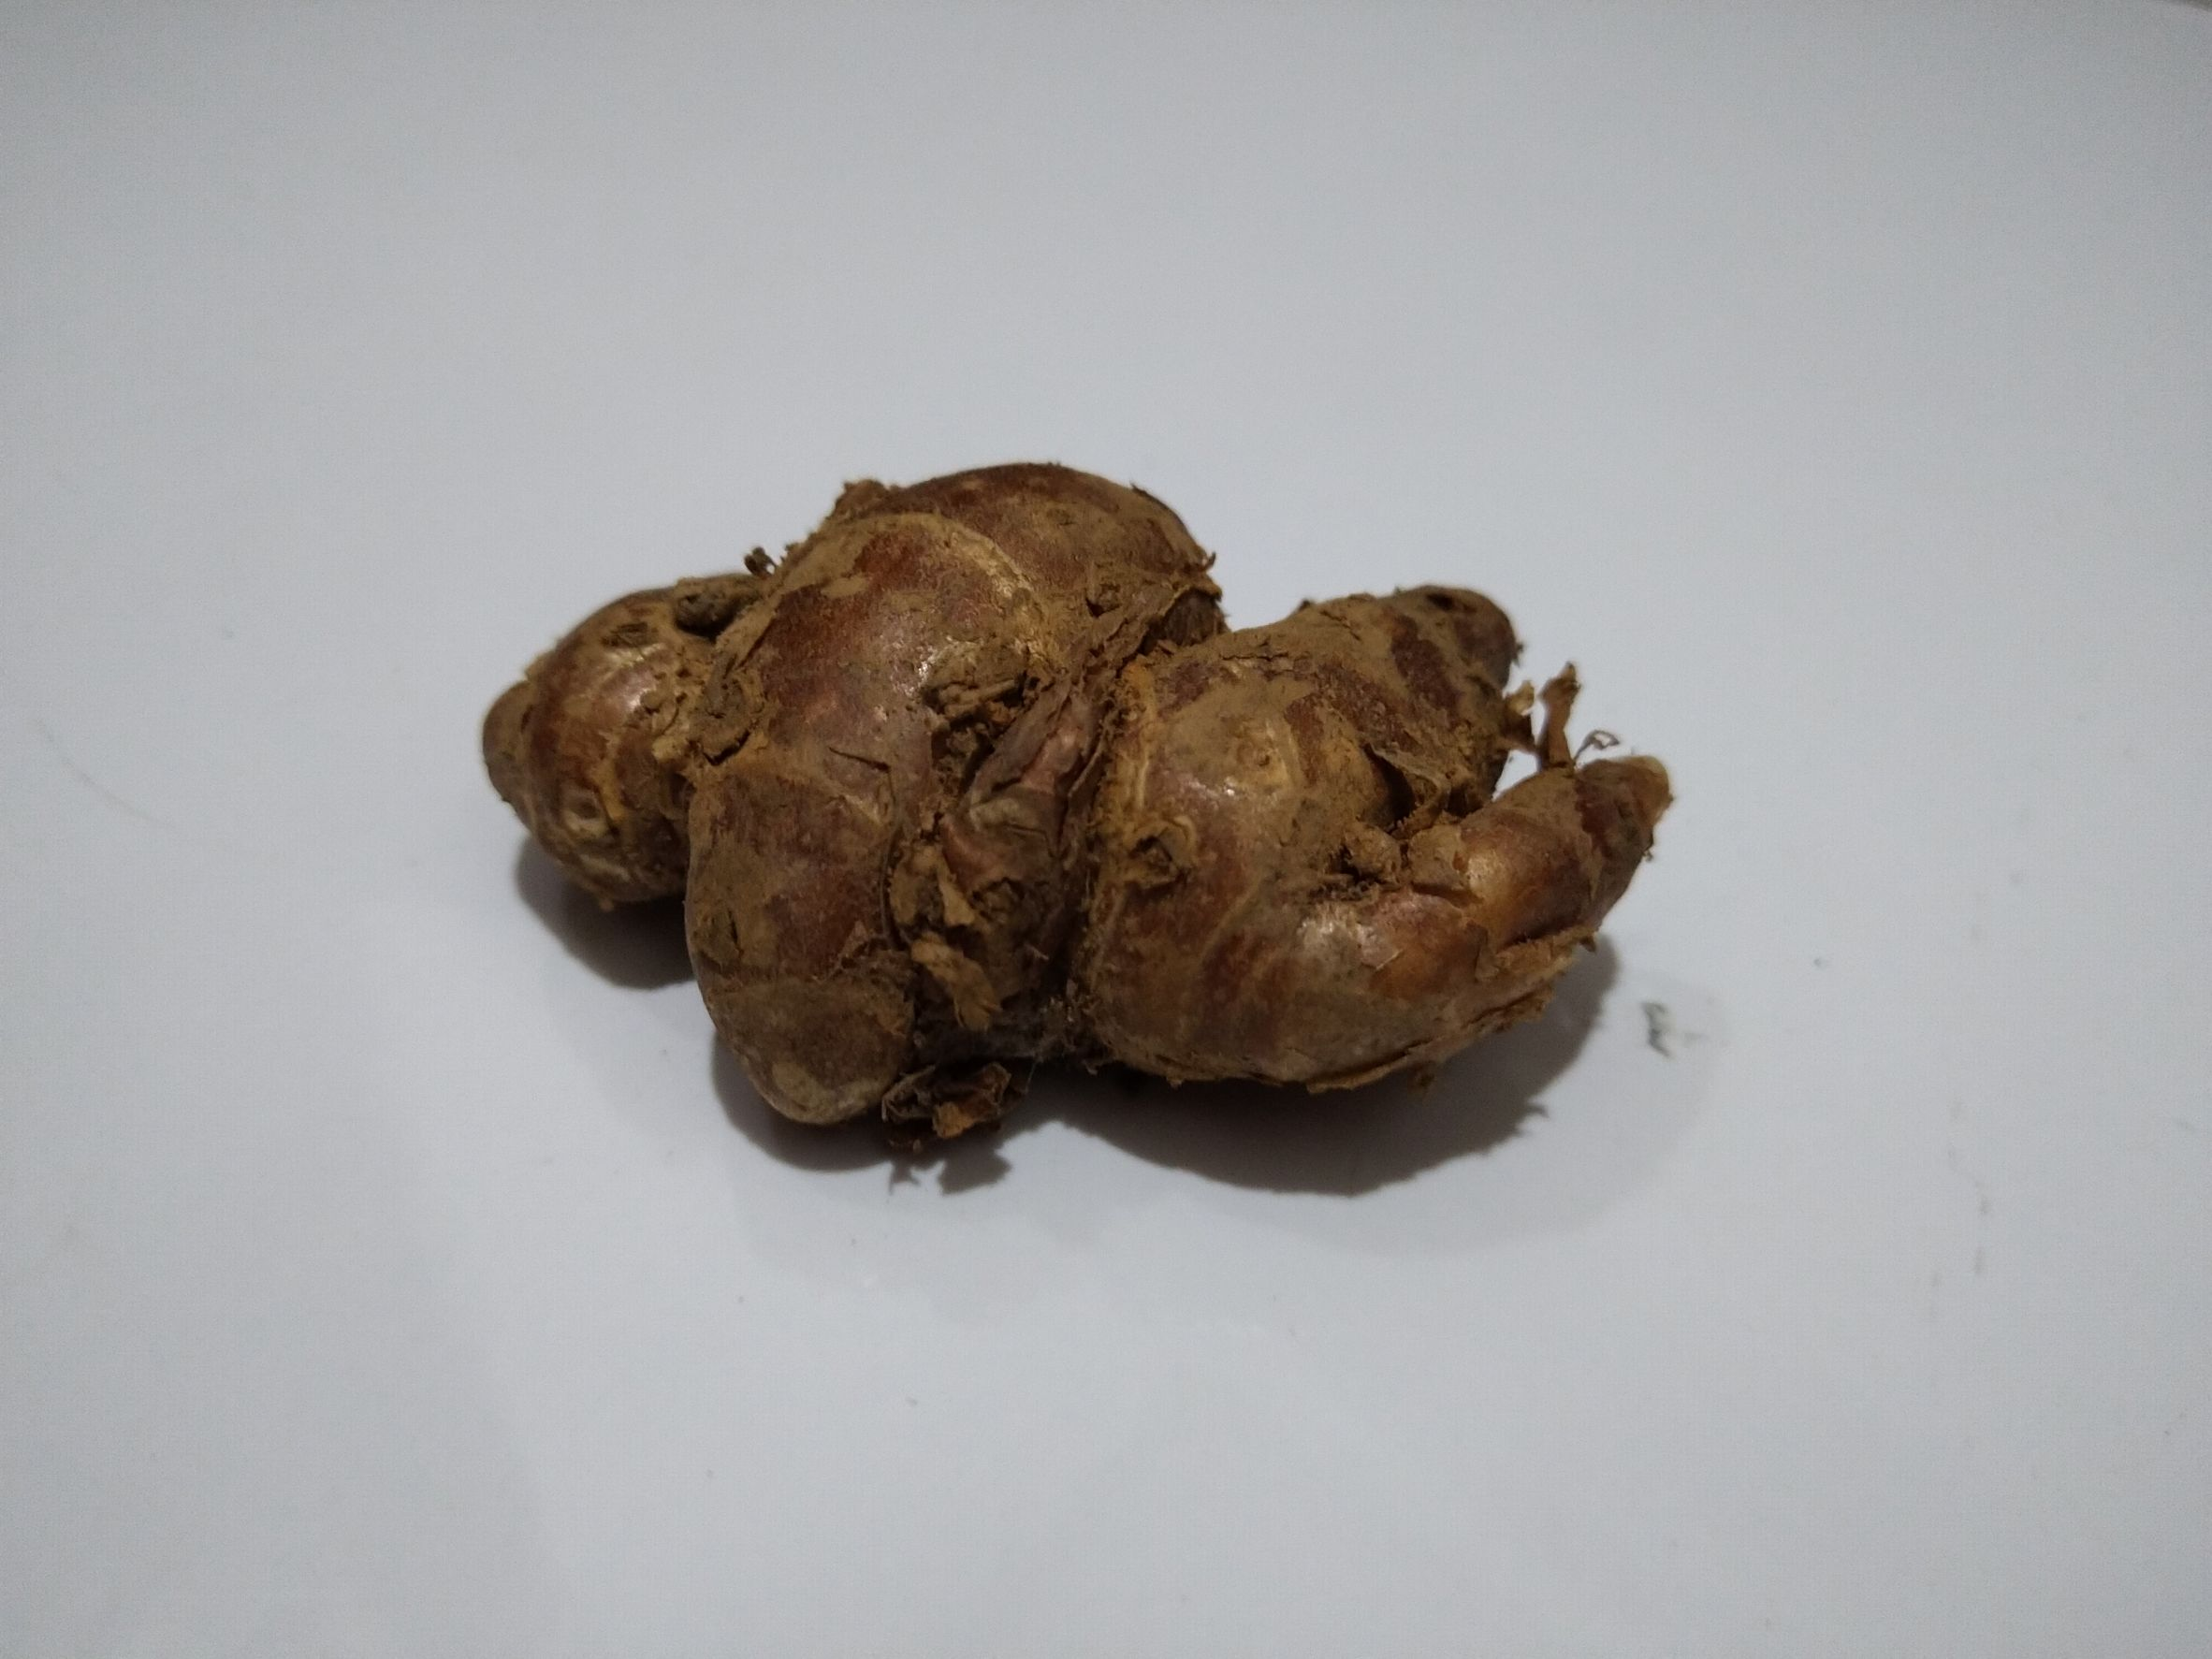Kencur: (505, 471, 1670, 1190)
